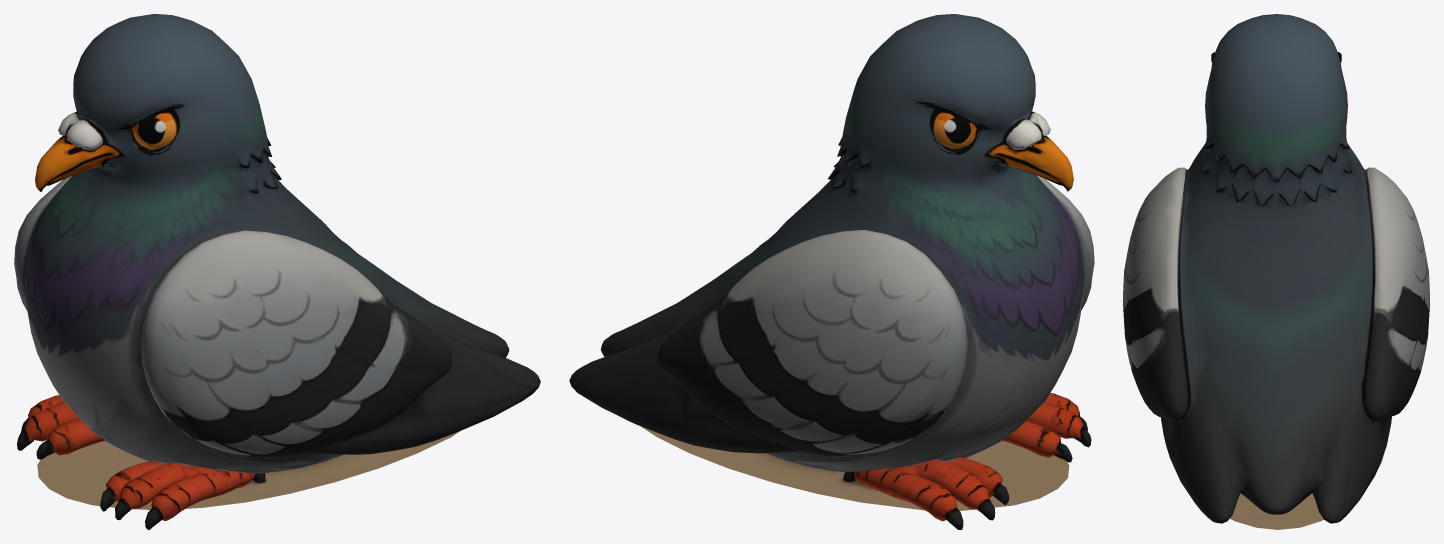
The model's file is buggy-bird.glb.
3 renders of one model, left to right at view 1: azimuth 30°, elevation 25°; view 2: azimuth 150°, elevation 25°; view 3: azimuth 270°, elevation 25°, orthographic. The views are drawn at different scales.
Visible parts, largest first — view 1: tripo_node_a750fc5f-d8c9-48a5-be59-5d614ab4cca3; view 2: tripo_node_a750fc5f-d8c9-48a5-be59-5d614ab4cca3; view 3: tripo_node_a750fc5f-d8c9-48a5-be59-5d614ab4cca3.
Boxes of the visible parts, bbox=[...] form: tripo_node_a750fc5f-d8c9-48a5-be59-5d614ab4cca3: bbox=[14, 14, 540, 529]; tripo_node_a750fc5f-d8c9-48a5-be59-5d614ab4cca3: bbox=[569, 14, 1094, 529]; tripo_node_a750fc5f-d8c9-48a5-be59-5d614ab4cca3: bbox=[1123, 14, 1429, 529].
Bounding box in the file's own units: 0.399 × 0.36 × 0.2663.
1 material, 1 textured.
